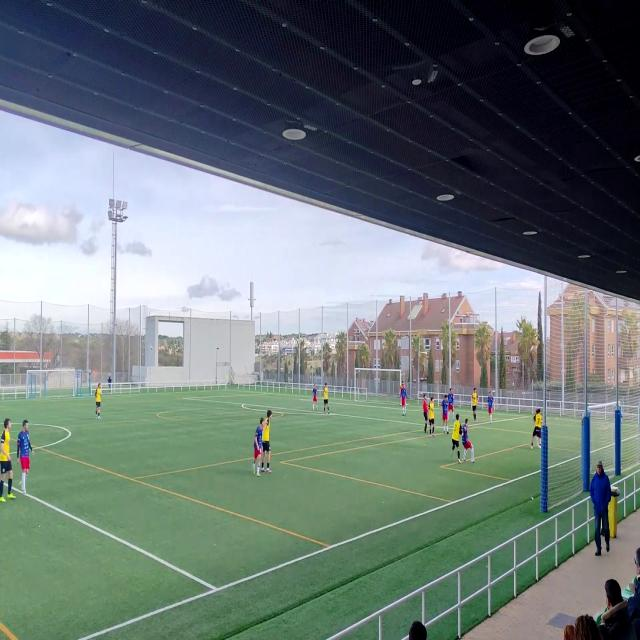bigarea_bottom_outter: (526, 412, 532, 422)
bigarea_top_inner: (181, 394, 186, 403)
bigarea_top_outter: (270, 391, 274, 397)
bottom_arc_area_intersection: (331, 408, 339, 421)
corner: (225, 388, 227, 392)
midline_bottom_intersection: (196, 569, 234, 608)
smallarea_bottom_inner: (412, 406, 416, 416)
smallarea_top_inner: (298, 397, 302, 402)
top_arc_area_intersection: (241, 398, 247, 411)
